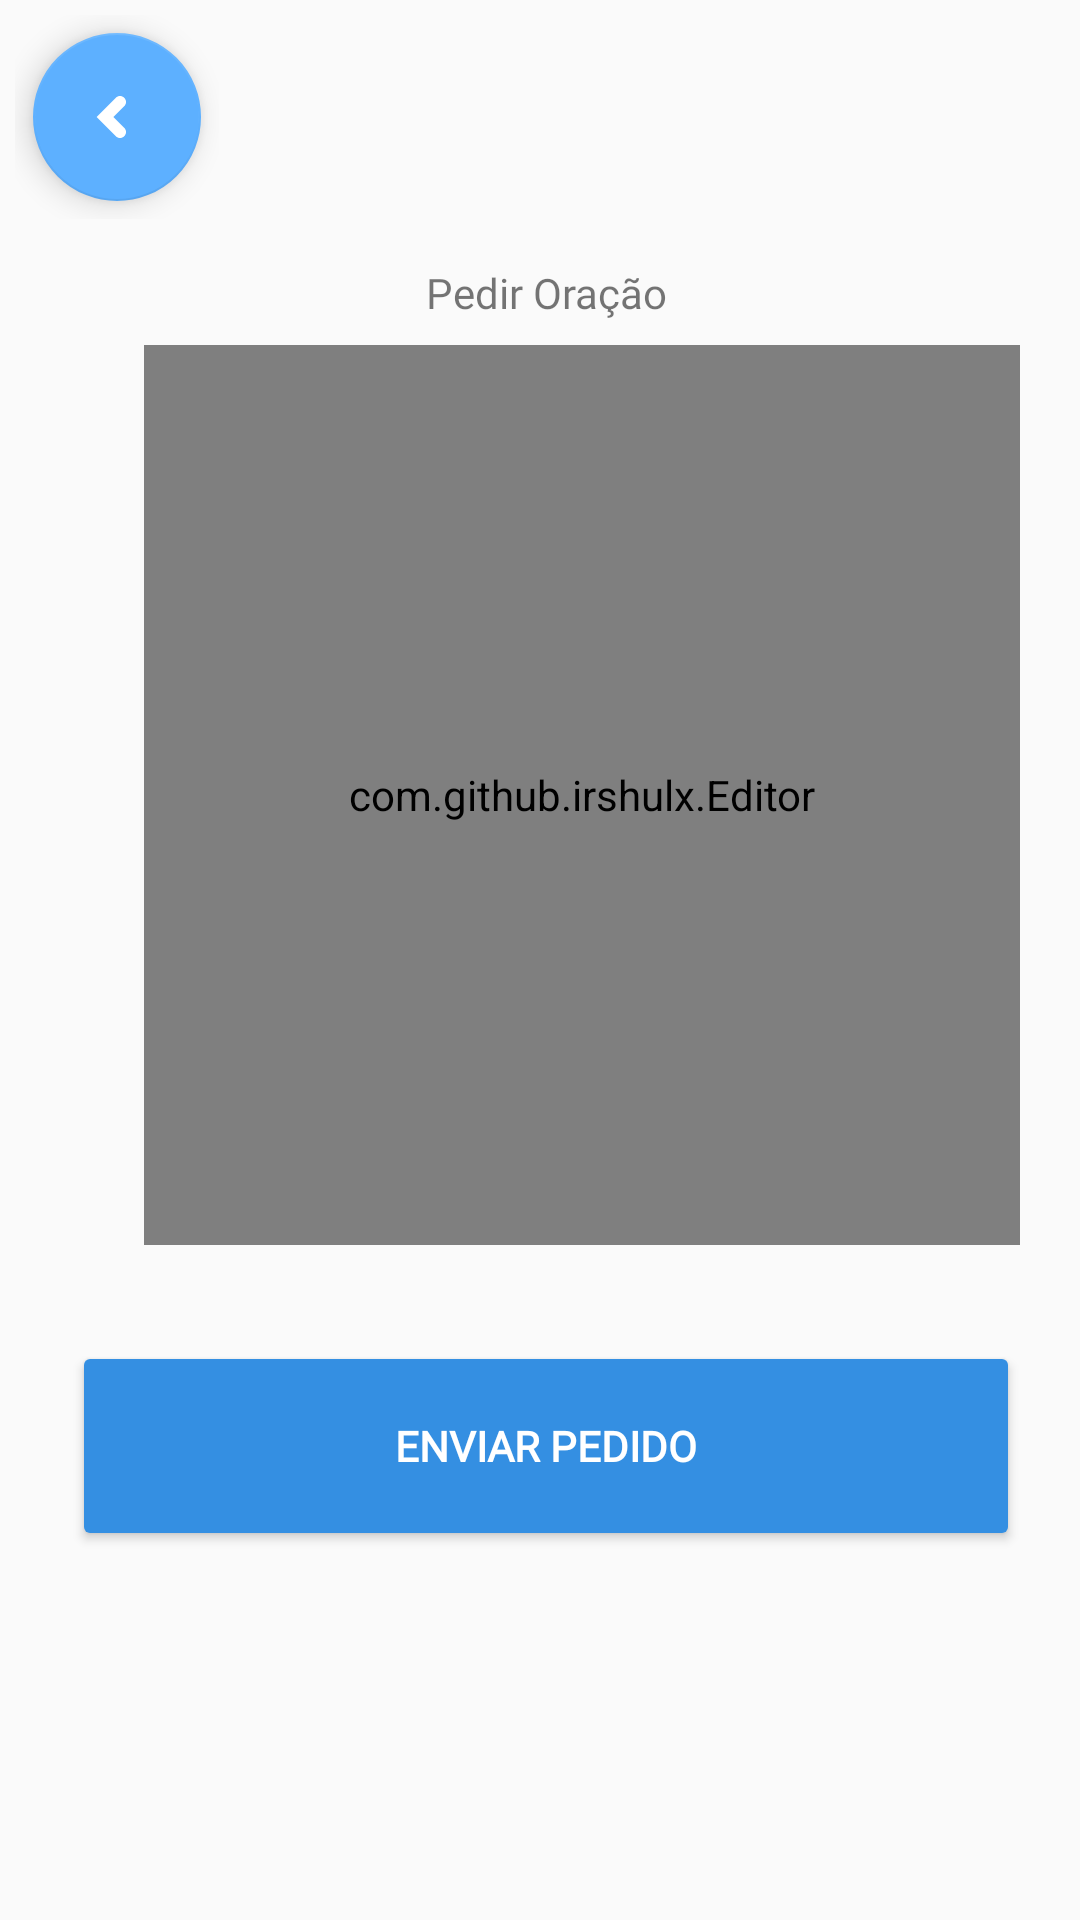

Where to tap for icons on this 1080x1920 app screen, as [x,y]:
Voltar: [117,117]
